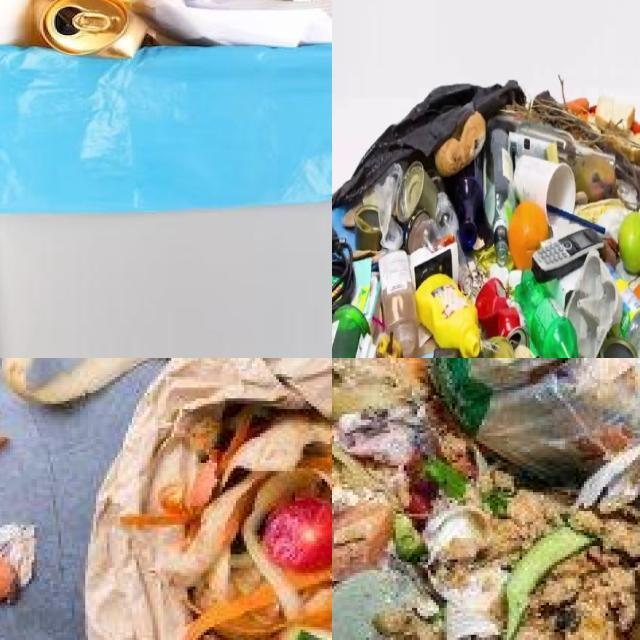E_waste: (532, 228, 604, 282), (332, 229, 356, 318)
Garbage: (332, 82, 640, 358), (332, 394, 640, 640), (167, 398, 332, 640), (432, 358, 640, 479)
Glass_bottle: (431, 173, 475, 298), (484, 128, 517, 265), (490, 114, 577, 161), (453, 163, 483, 252)
Plastic_Bag: (363, 163, 404, 244)
Plastic_Container: (415, 274, 480, 358), (379, 250, 419, 355), (354, 206, 382, 250)
Plastic_Straw: (547, 205, 606, 235)
Plastic_bottle: (514, 270, 581, 358), (610, 267, 640, 358)
Tin_box: (397, 160, 436, 223), (483, 335, 515, 358), (600, 340, 638, 358)
can: (476, 277, 526, 344)
